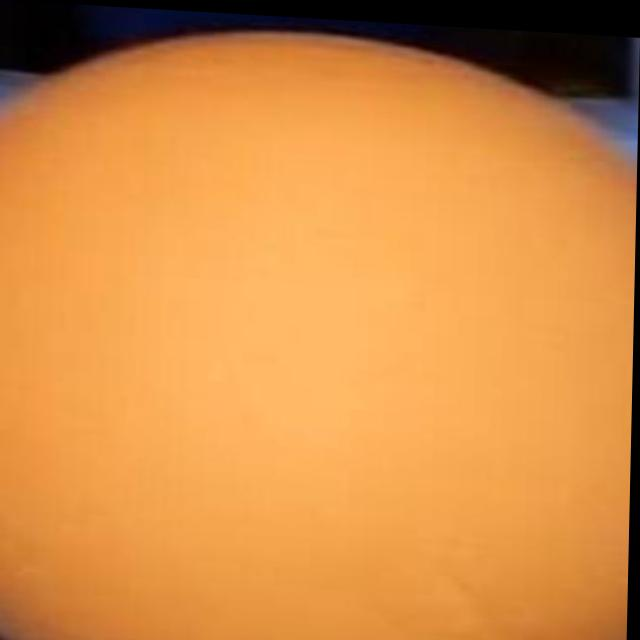fresh: (0, 24, 640, 640)
